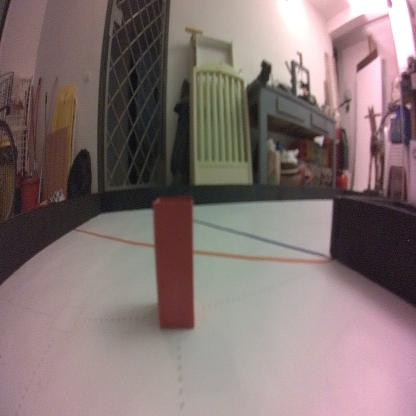red: (151, 194, 196, 331)
